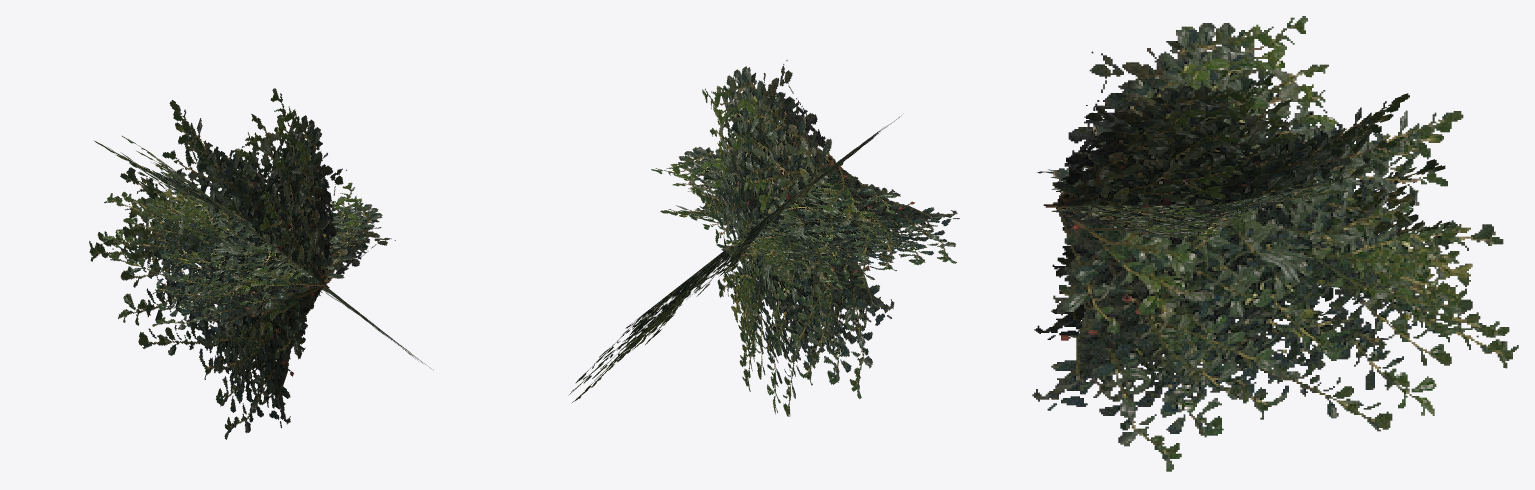
Rendered from fern_1.glb.
3 renders of one model, left to right at view 1: azimuth 30°, elevation 25°; view 2: azimuth 150°, elevation 25°; view 3: azimuth 270°, elevation 25°, orthographic. The views are drawn at different scales.
Visible parts, largest first — view 1: fern_1; view 2: fern_1; view 3: fern_1.
Part boxes in pixels (x1,y1,x2,y2): fern_1: (89, 88, 433, 439); fern_1: (568, 60, 959, 416); fern_1: (1032, 16, 1518, 471).
Bounding box in the file's own units: 0.9733 × 1.04 × 1.15.
Materials: 1 (1 with a texture image).
